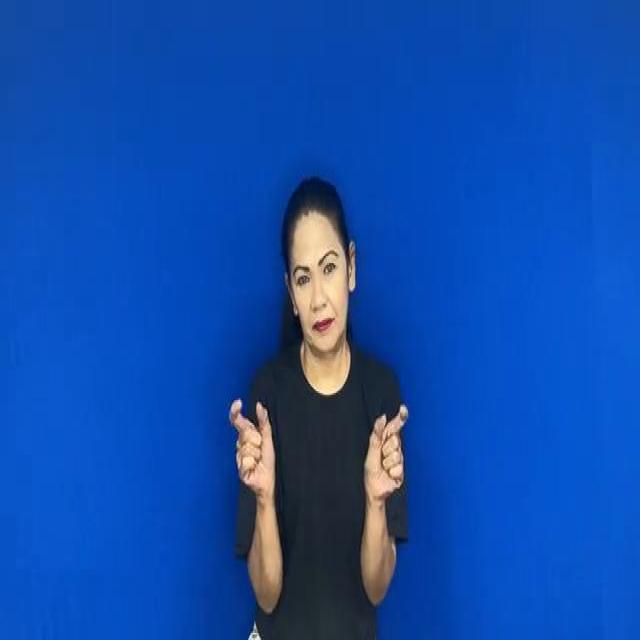crab: (228, 386, 288, 504), (358, 396, 420, 504)
